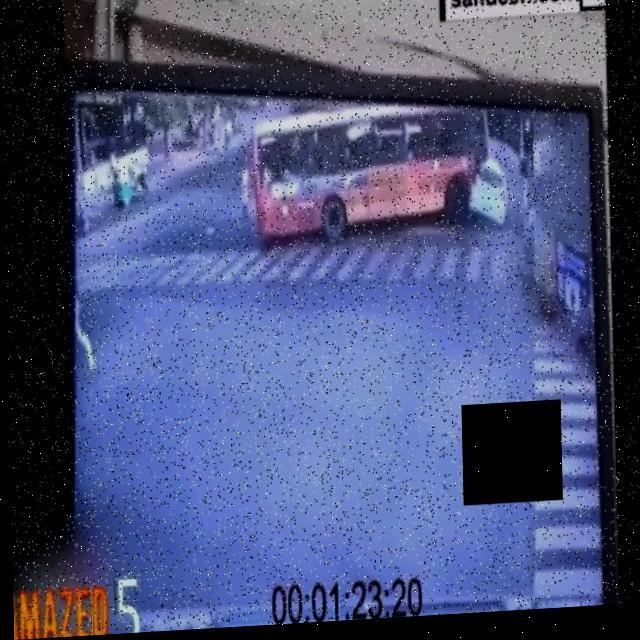multiple_accident: (236, 110, 529, 244)
